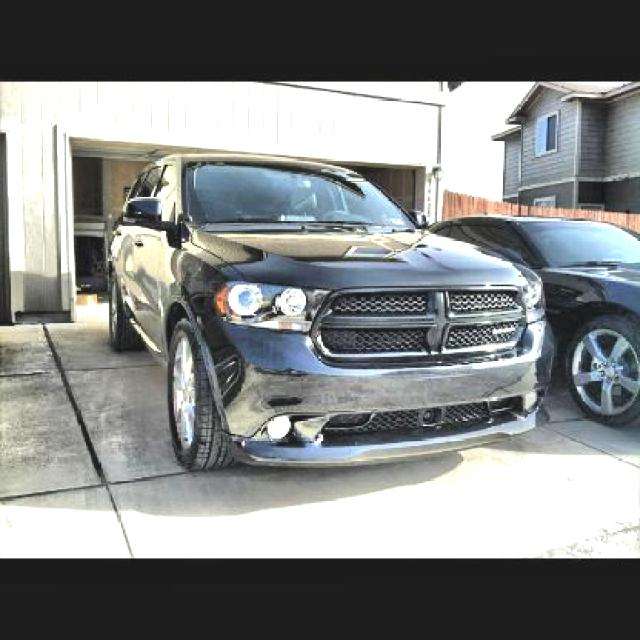black: (79, 150, 522, 502), (465, 134, 640, 411)
